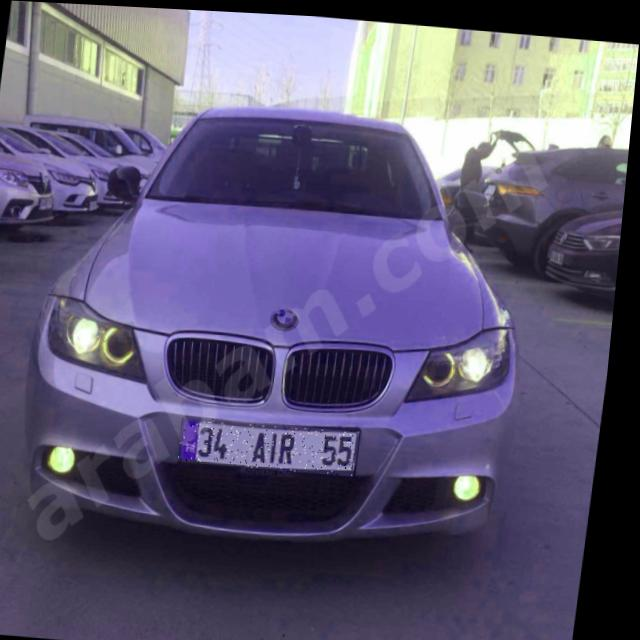license_plate: (186, 413, 367, 472)
